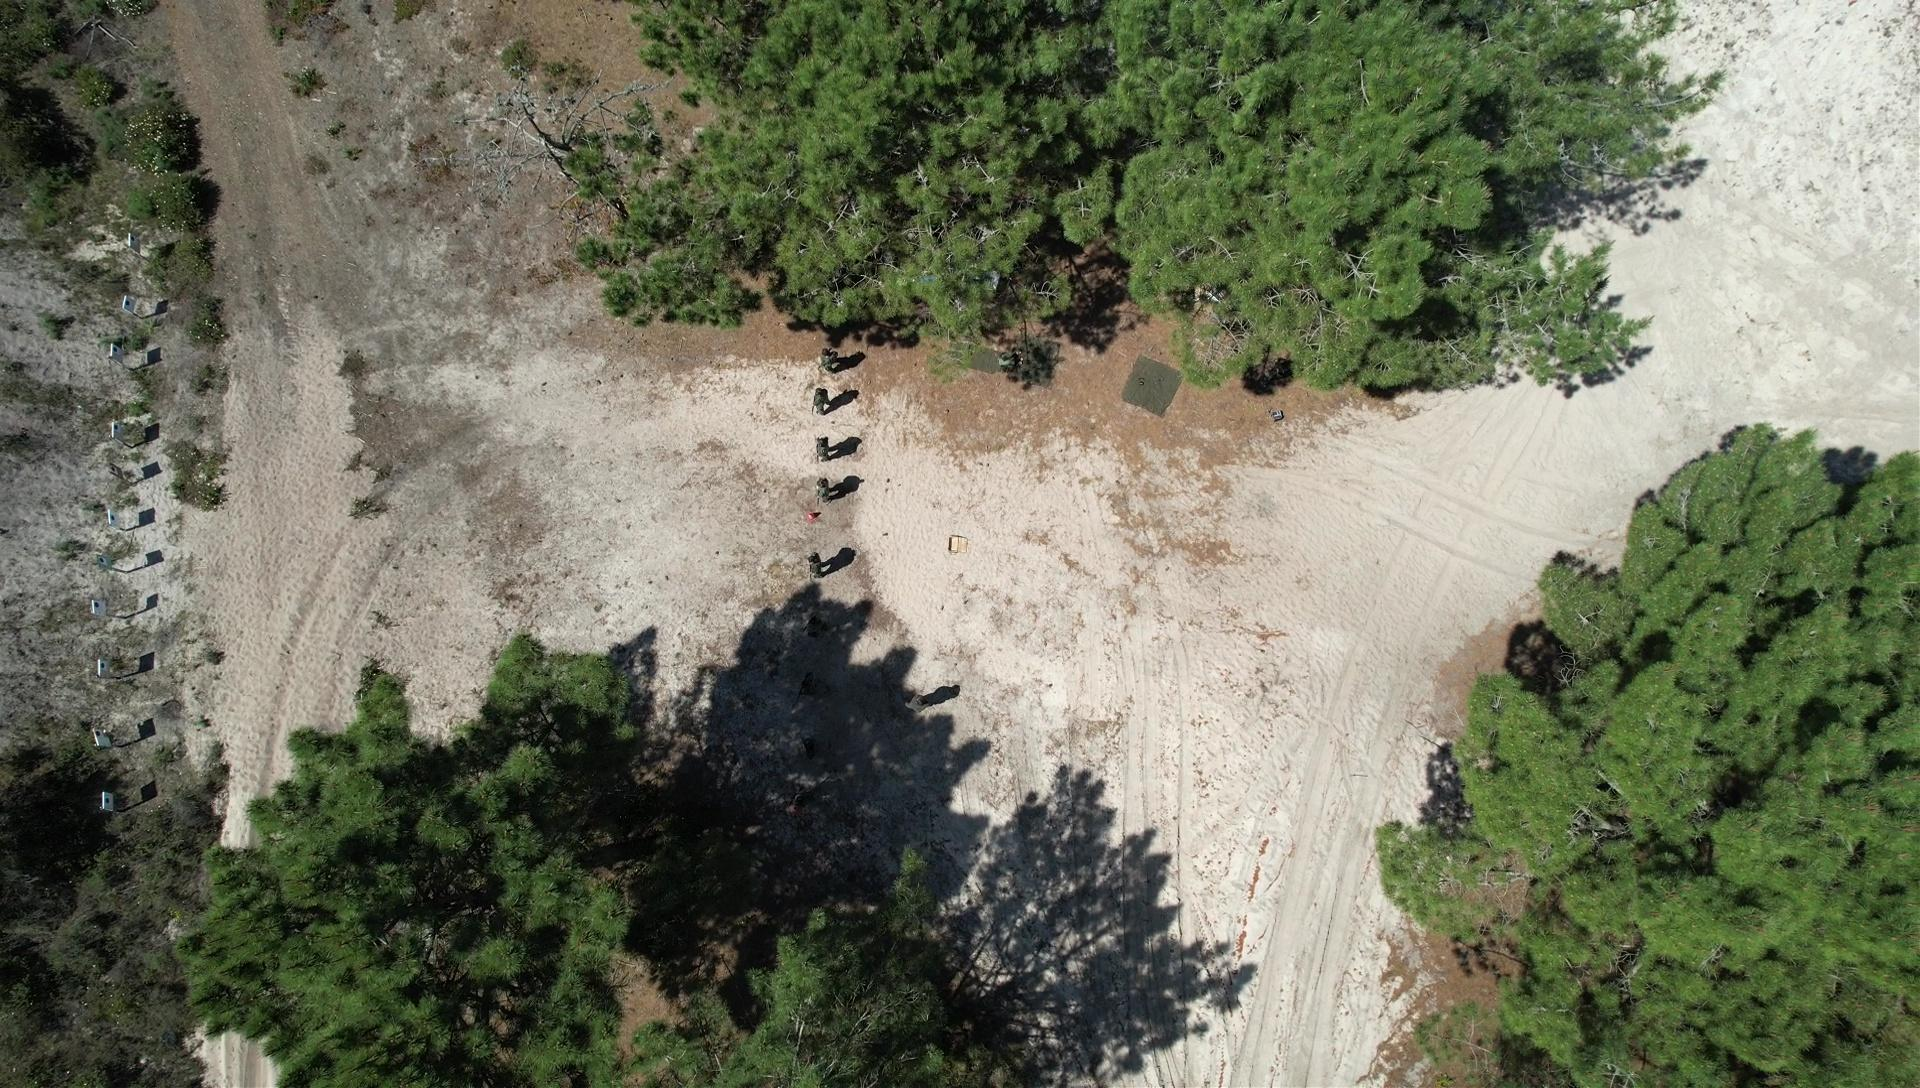Soldier: (905, 682, 935, 721), (806, 547, 831, 588), (798, 669, 825, 706), (816, 342, 847, 375), (811, 382, 837, 418), (815, 473, 840, 510), (803, 615, 832, 644), (823, 742, 845, 778), (814, 434, 837, 467)
